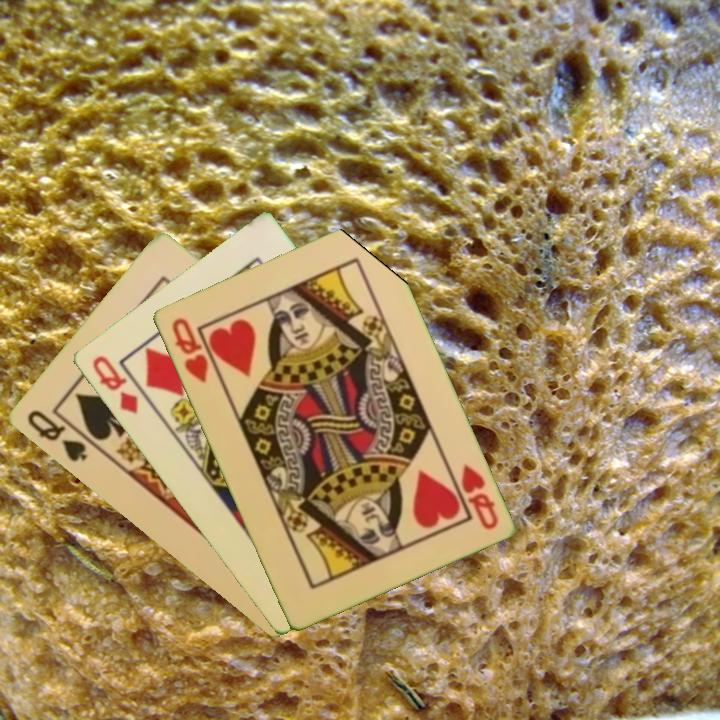Qd: (88, 351, 141, 417)
Qh: (456, 460, 501, 533), (167, 314, 211, 386)
Qs: (23, 406, 90, 465)
